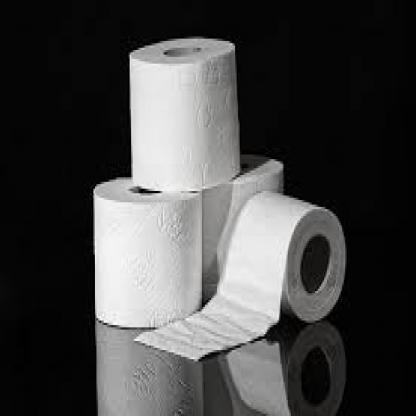tissue: (128, 35, 248, 198), (226, 207, 342, 344)
